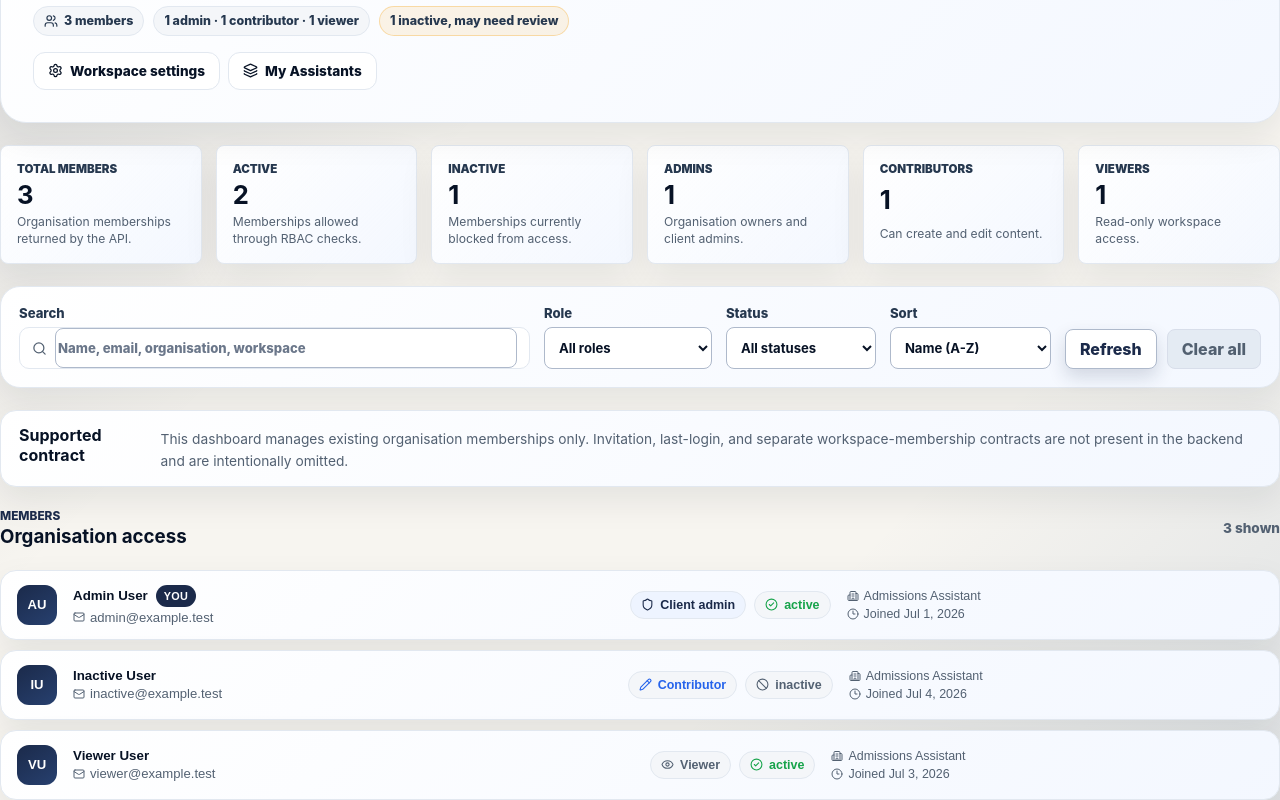
Test case: UsersManagementClient › applies a role upgrade immediately without a confirmation dialog
(page scrolled)
Click the button "Viewer User" at (37, 765), box [1,731,1279,799]
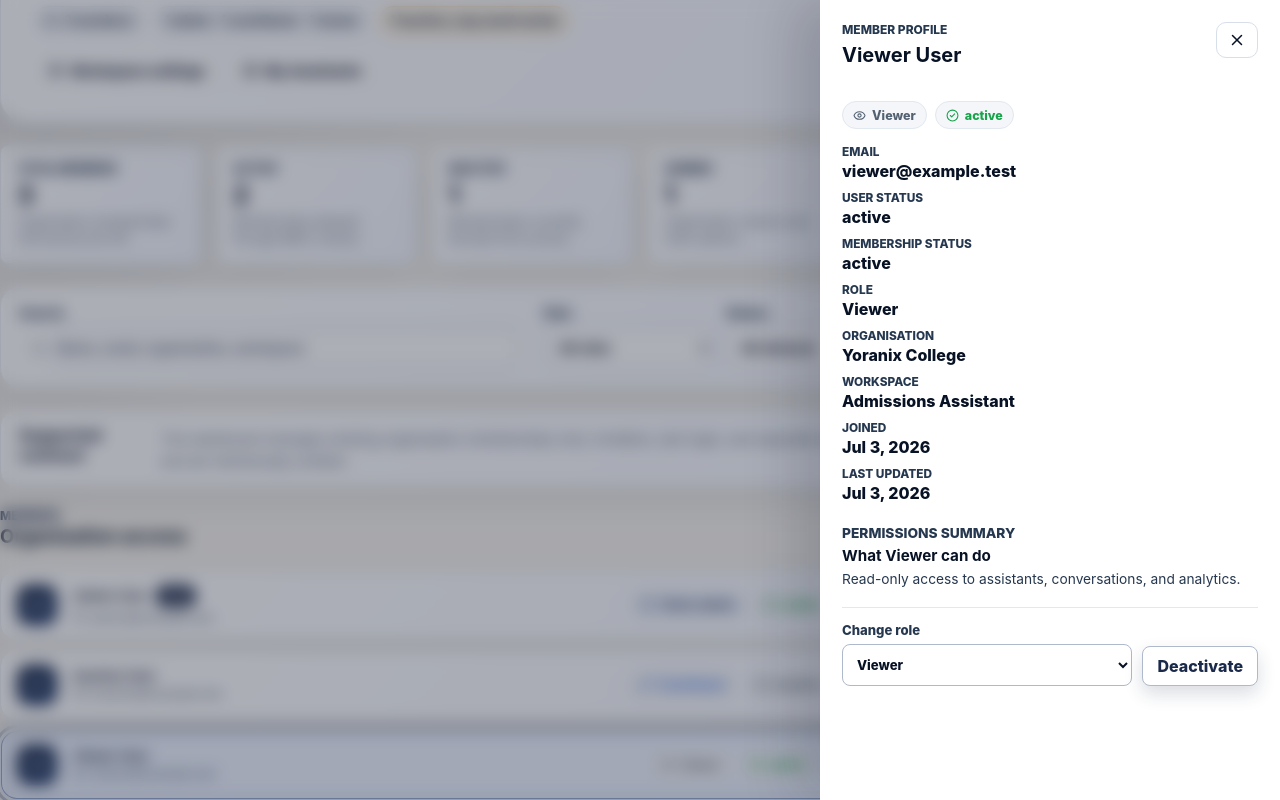
Select "Organisation owner" in the dropdown named "Role for viewer@example.test" at (987, 665), box [842,644,1132,686]
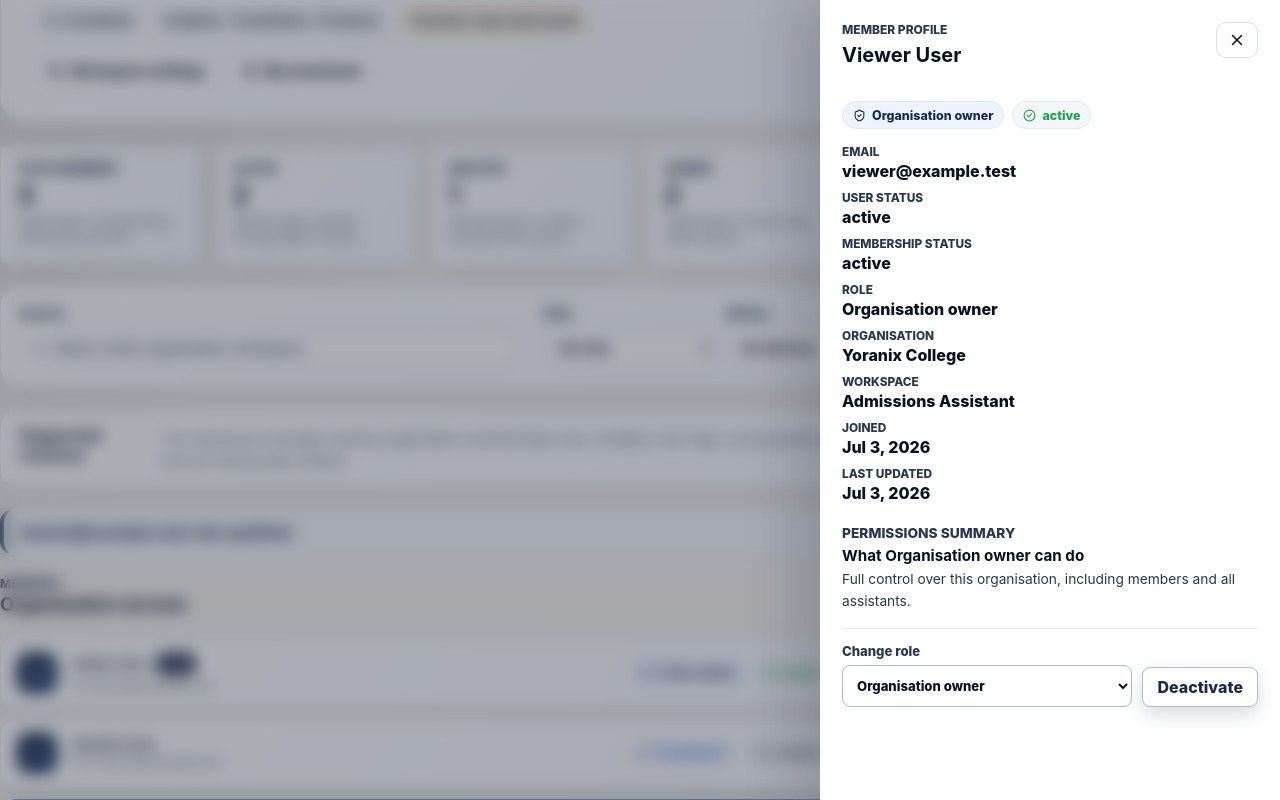
Result: the text "viewer@example.test role updated." is shown at [0,509,1279,555]
